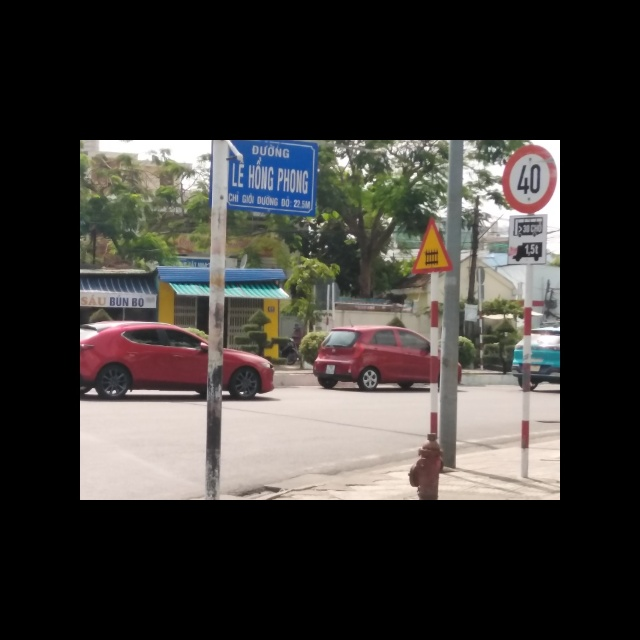Giao nhau với đường sắt có rào chắn: (411, 217, 455, 274)
Tốc độ tối đa cho phép 40km/h: (501, 145, 556, 214)
